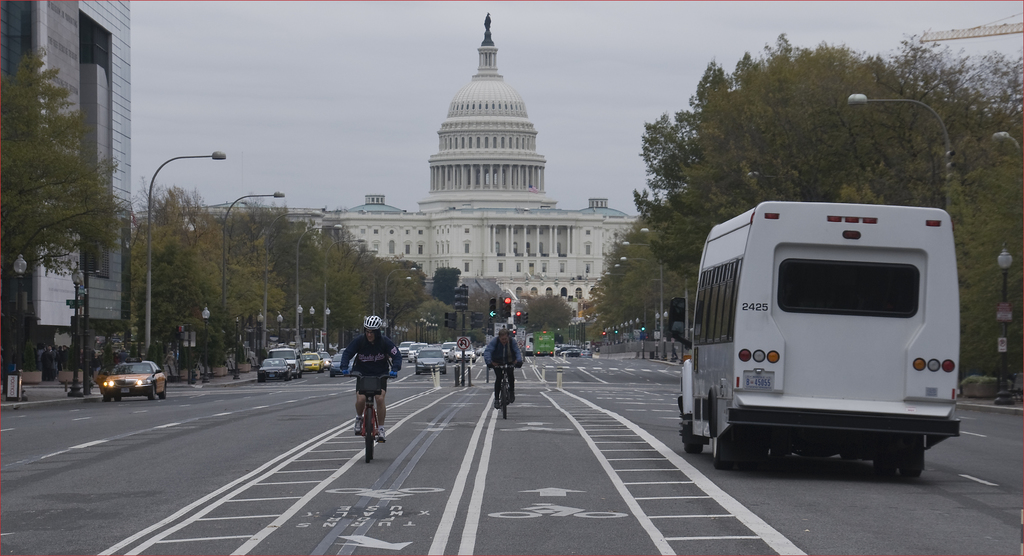Car: (255, 342, 476, 381), (95, 356, 167, 399)
